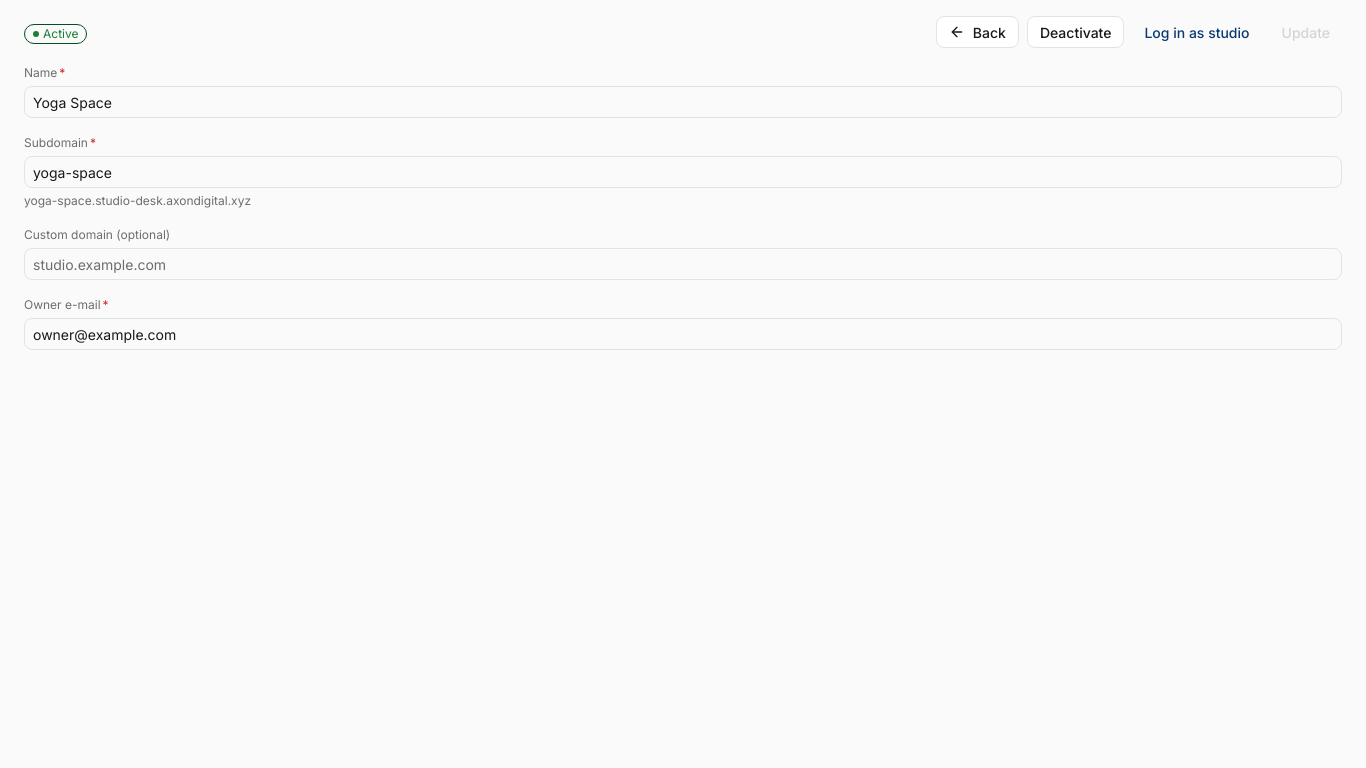
Test case: StudioPage: actions › deactivates after the confirmation and stays on the page
Click the button "Deactivate".
click(1076, 32)  # box [1027,16,1124,48]
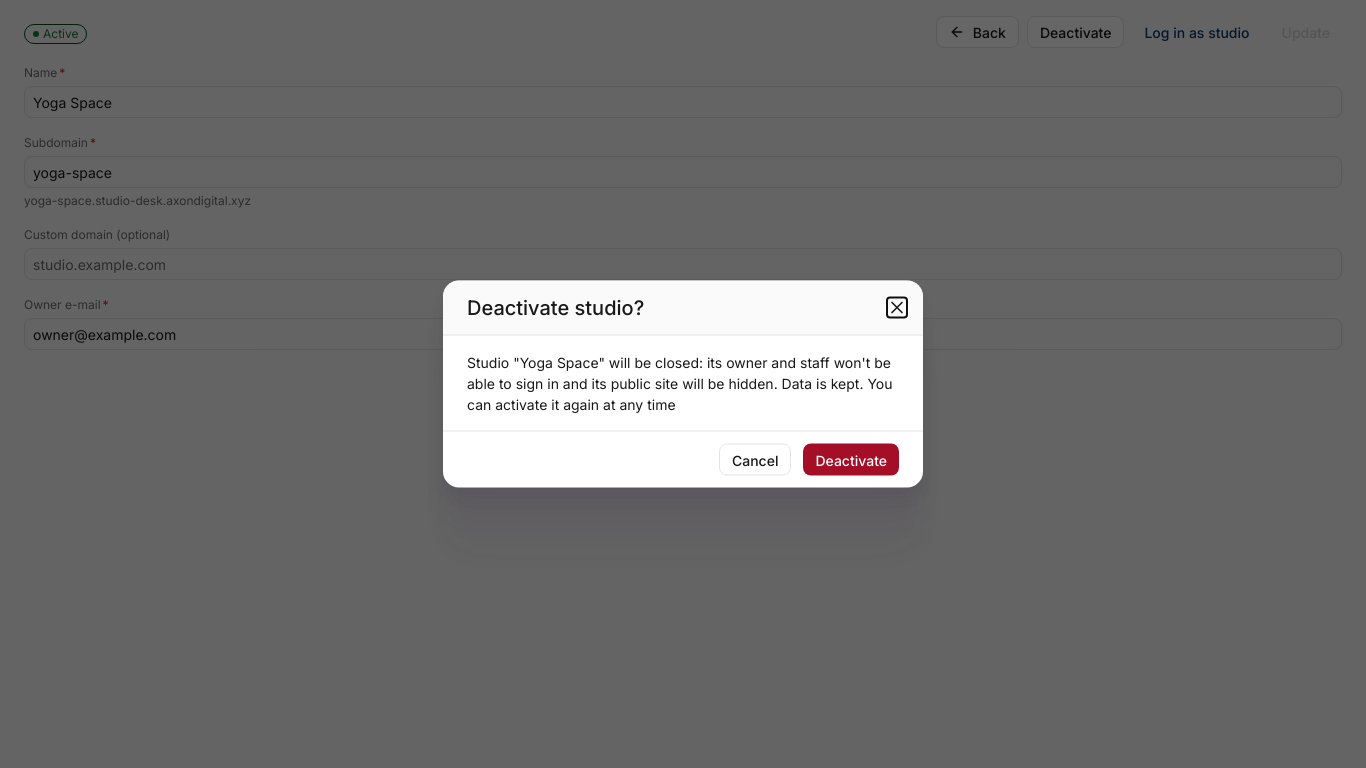
Click the button "Deactivate".
click(851, 460)  # box [804,444,899,476]
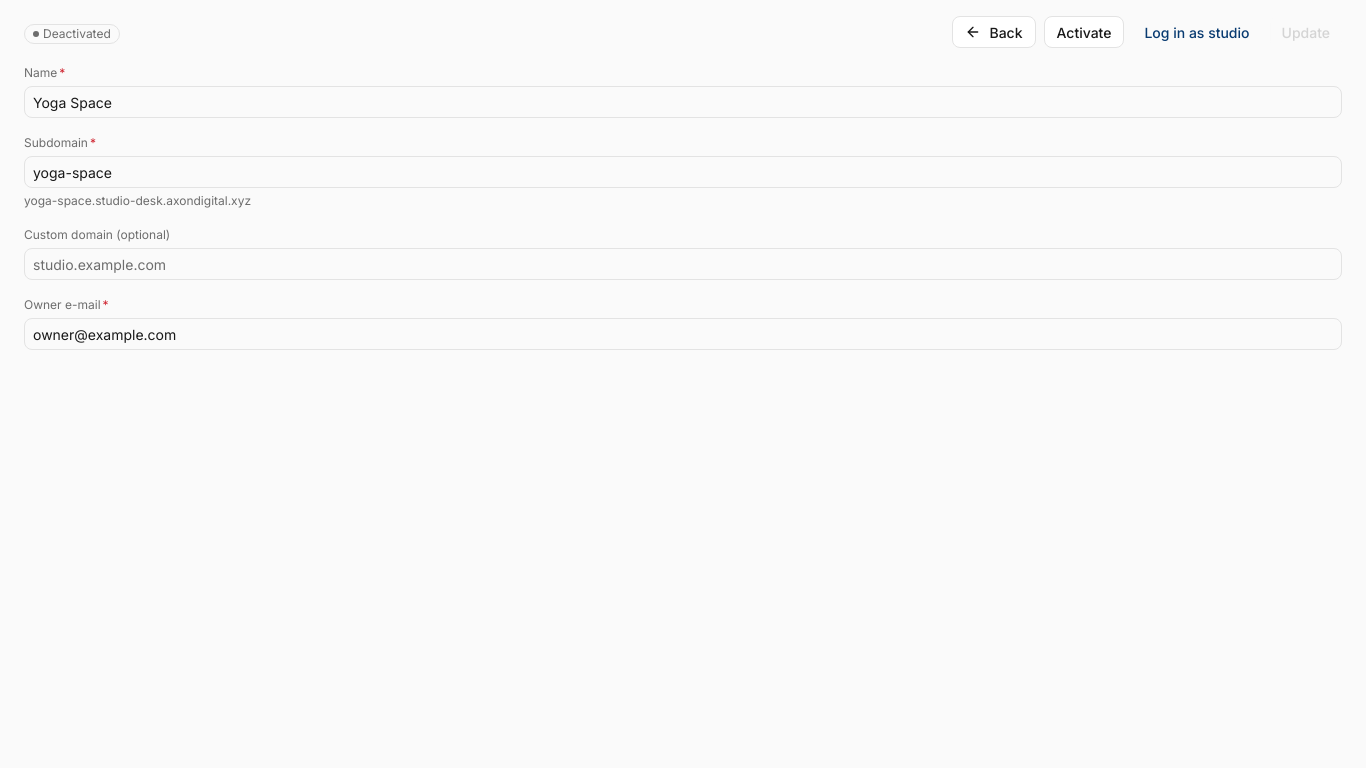
Check: the button "Activate" is shown, box [1044,16,1124,48]
Check: the heading "Deactivate studio?" is gone
Check: the text "Deactivated" is shown, box [24,24,120,44]
